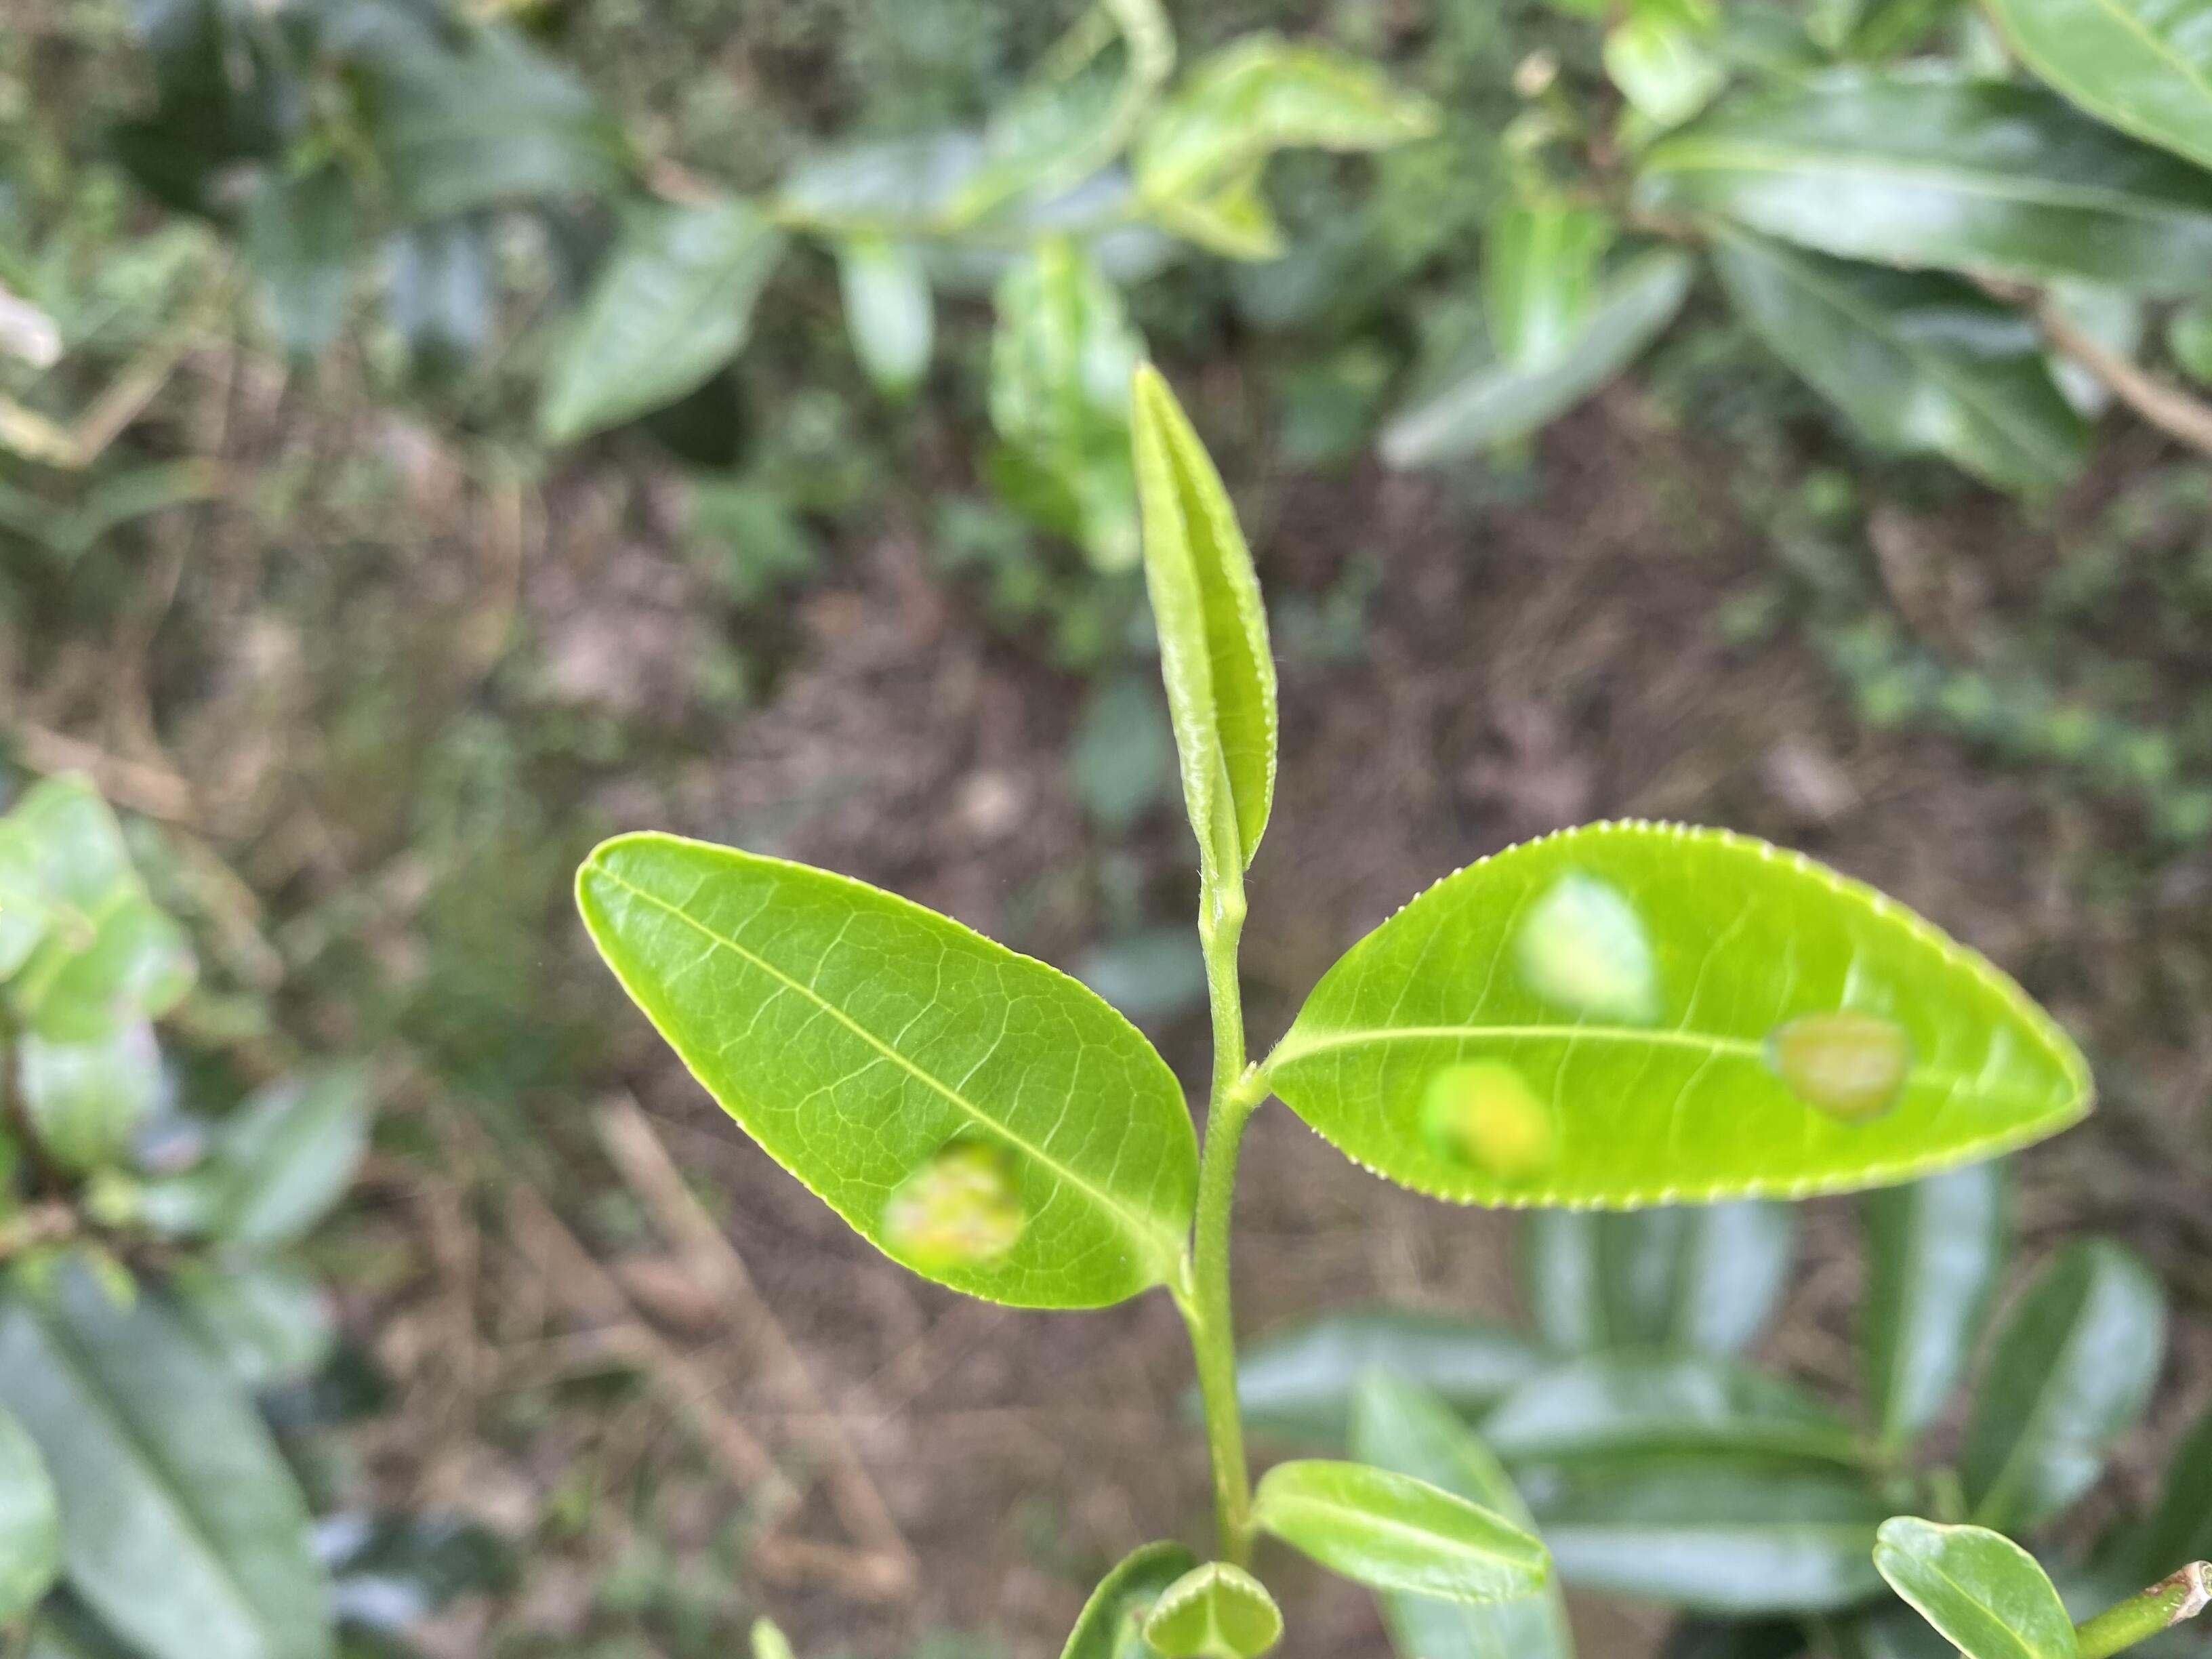chabing_high: (1264, 817, 2097, 1211)
chabing_low: (571, 826, 1200, 1314)
